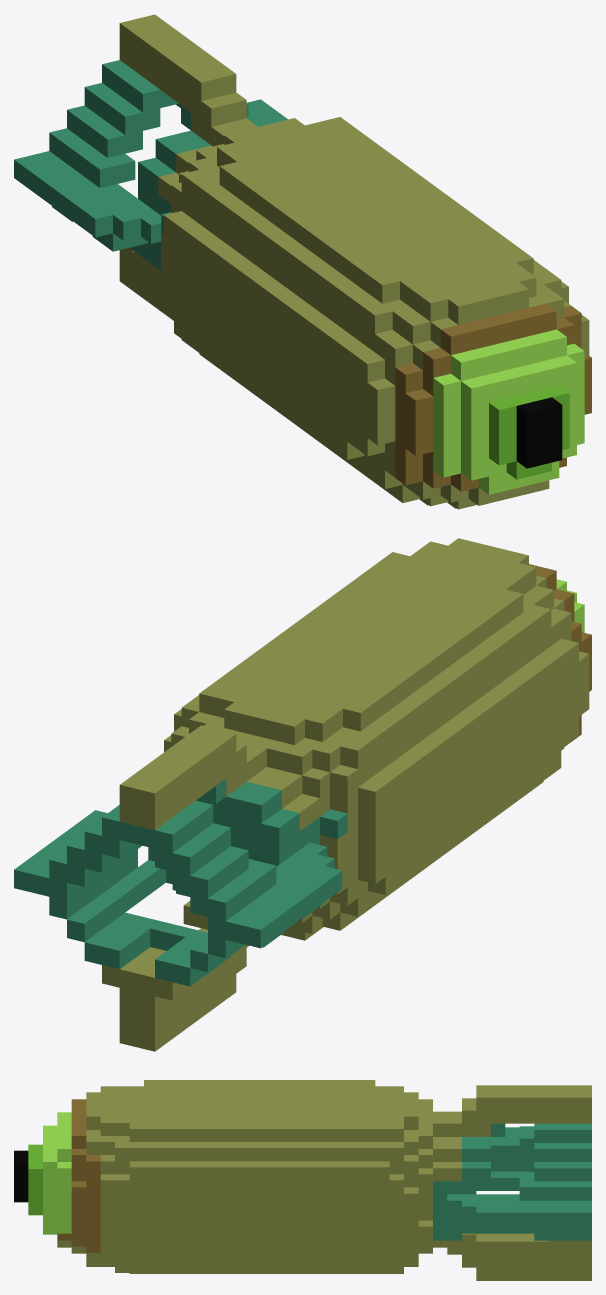
Rendered from alien_bomb.gltf.
3 views of the same model, one above another, from view 1: azimuth 30°, elevation 25°; view 2: azimuth 150°, elevation 25°; view 3: azimuth 270°, elevation 25° (orthographic). The views are drawn at different scales.
Parts seen in each view (by area): view 1: Layer.1; view 2: Layer.1; view 3: Layer.1.
Part boxes in pixels (x1,y1,x2,y2): Layer.1: [14, 14, 591, 509]; Layer.1: [14, 538, 591, 1051]; Layer.1: [14, 1080, 591, 1280].
Bounding box in the file's own units: 14 × 14 × 40.
1 material, 1 textured.
